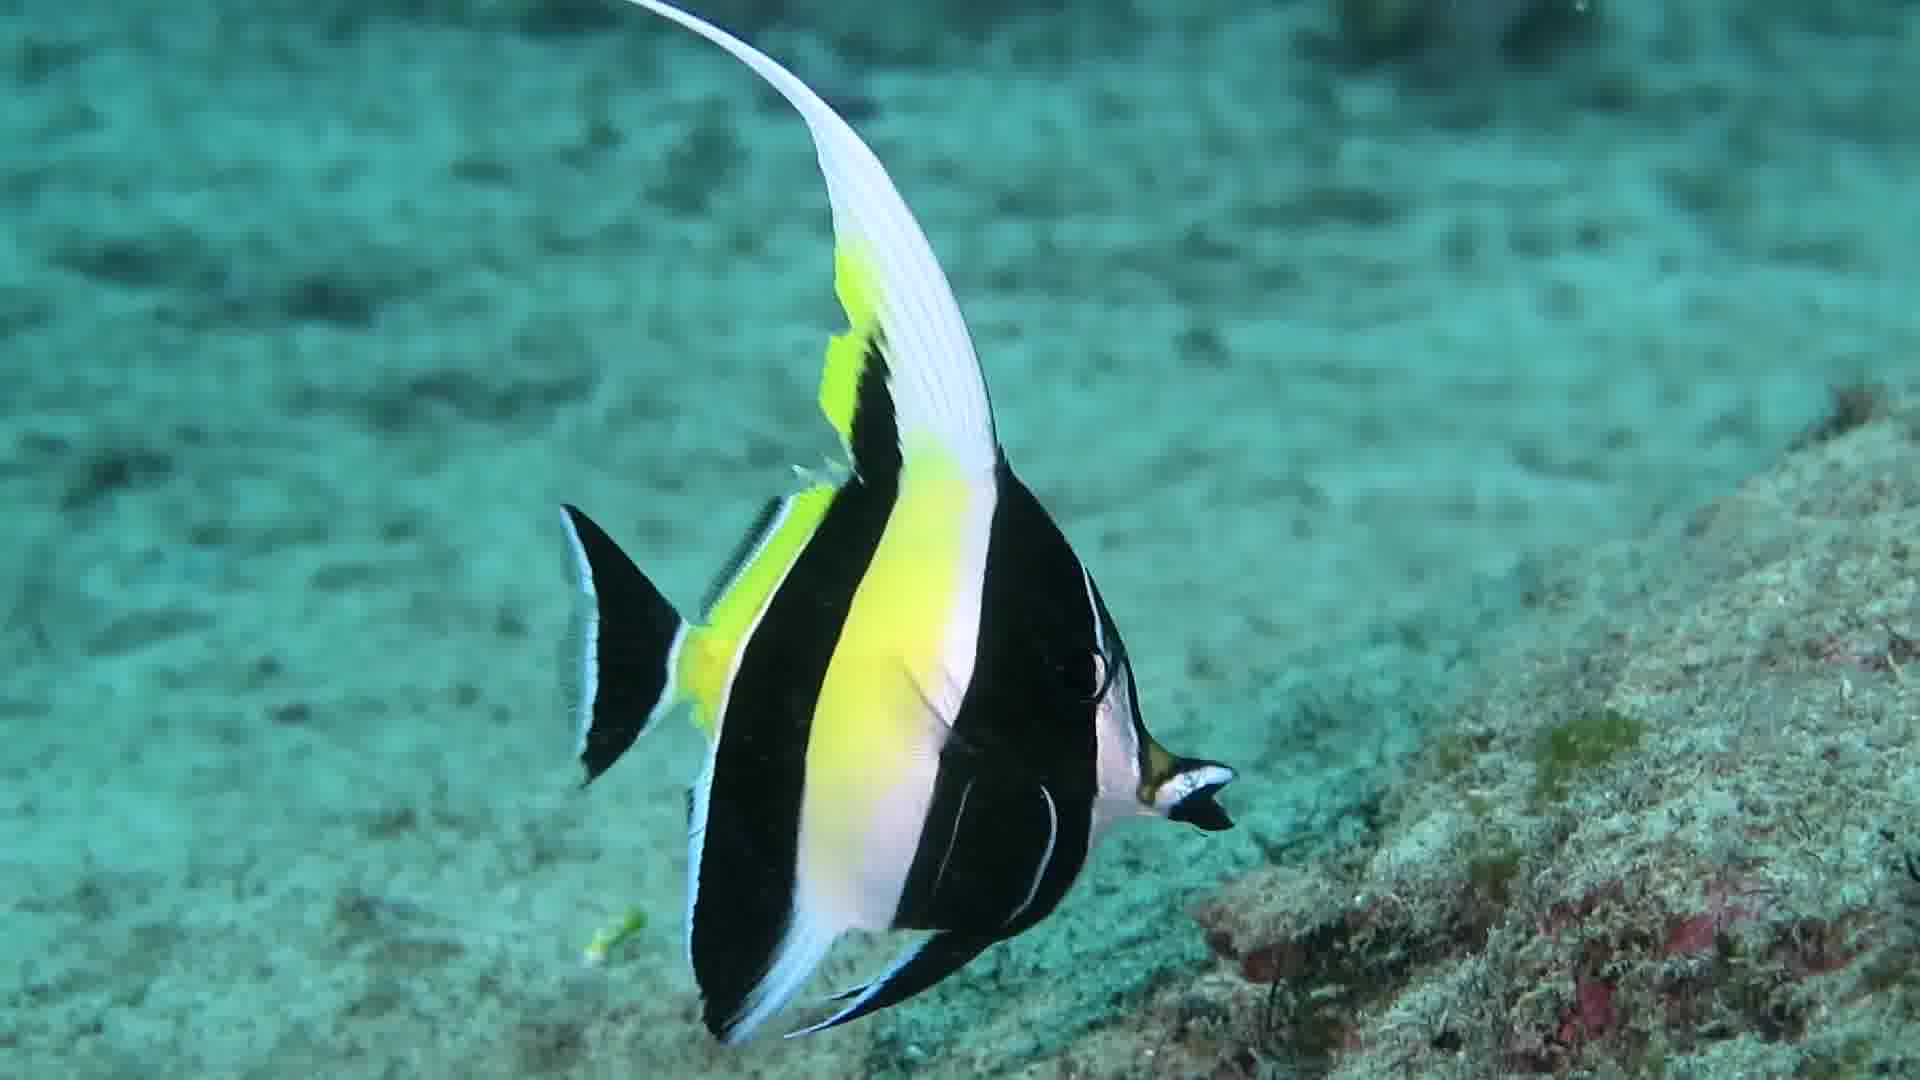Zanclus cornutus: (521, 287, 1253, 1062)
